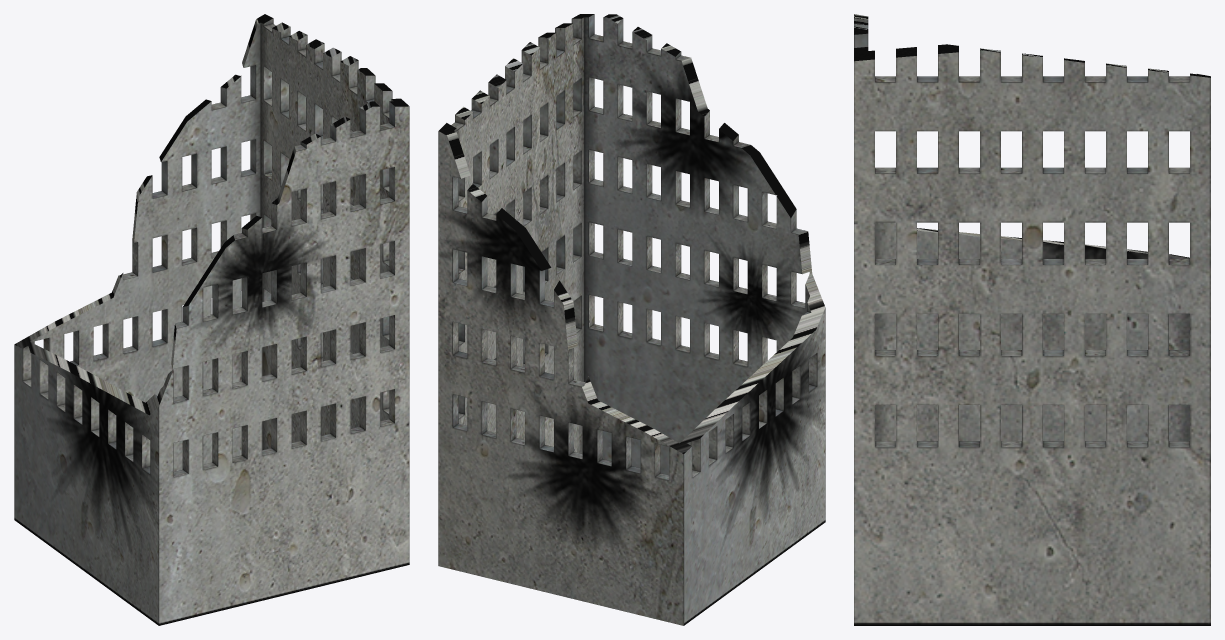
Rendered from Skyscraper_02.fbx.
3 renders of one model, left to right at view 1: azimuth 30°, elevation 25°; view 2: azimuth 150°, elevation 25°; view 3: azimuth 270°, elevation 25°, orthographic. The views are drawn at different scales.
Visible parts, largest first — view 1: Skyscraper_02; view 2: Skyscraper_02; view 3: Skyscraper_02.
Part boxes in pixels (bbox=[...]): Skyscraper_02: bbox=[14, 14, 409, 625]; Skyscraper_02: bbox=[438, 14, 825, 625]; Skyscraper_02: bbox=[854, 14, 1210, 625].
Size of the model in its own units: 17.09 by 30.41 by 17.09.
